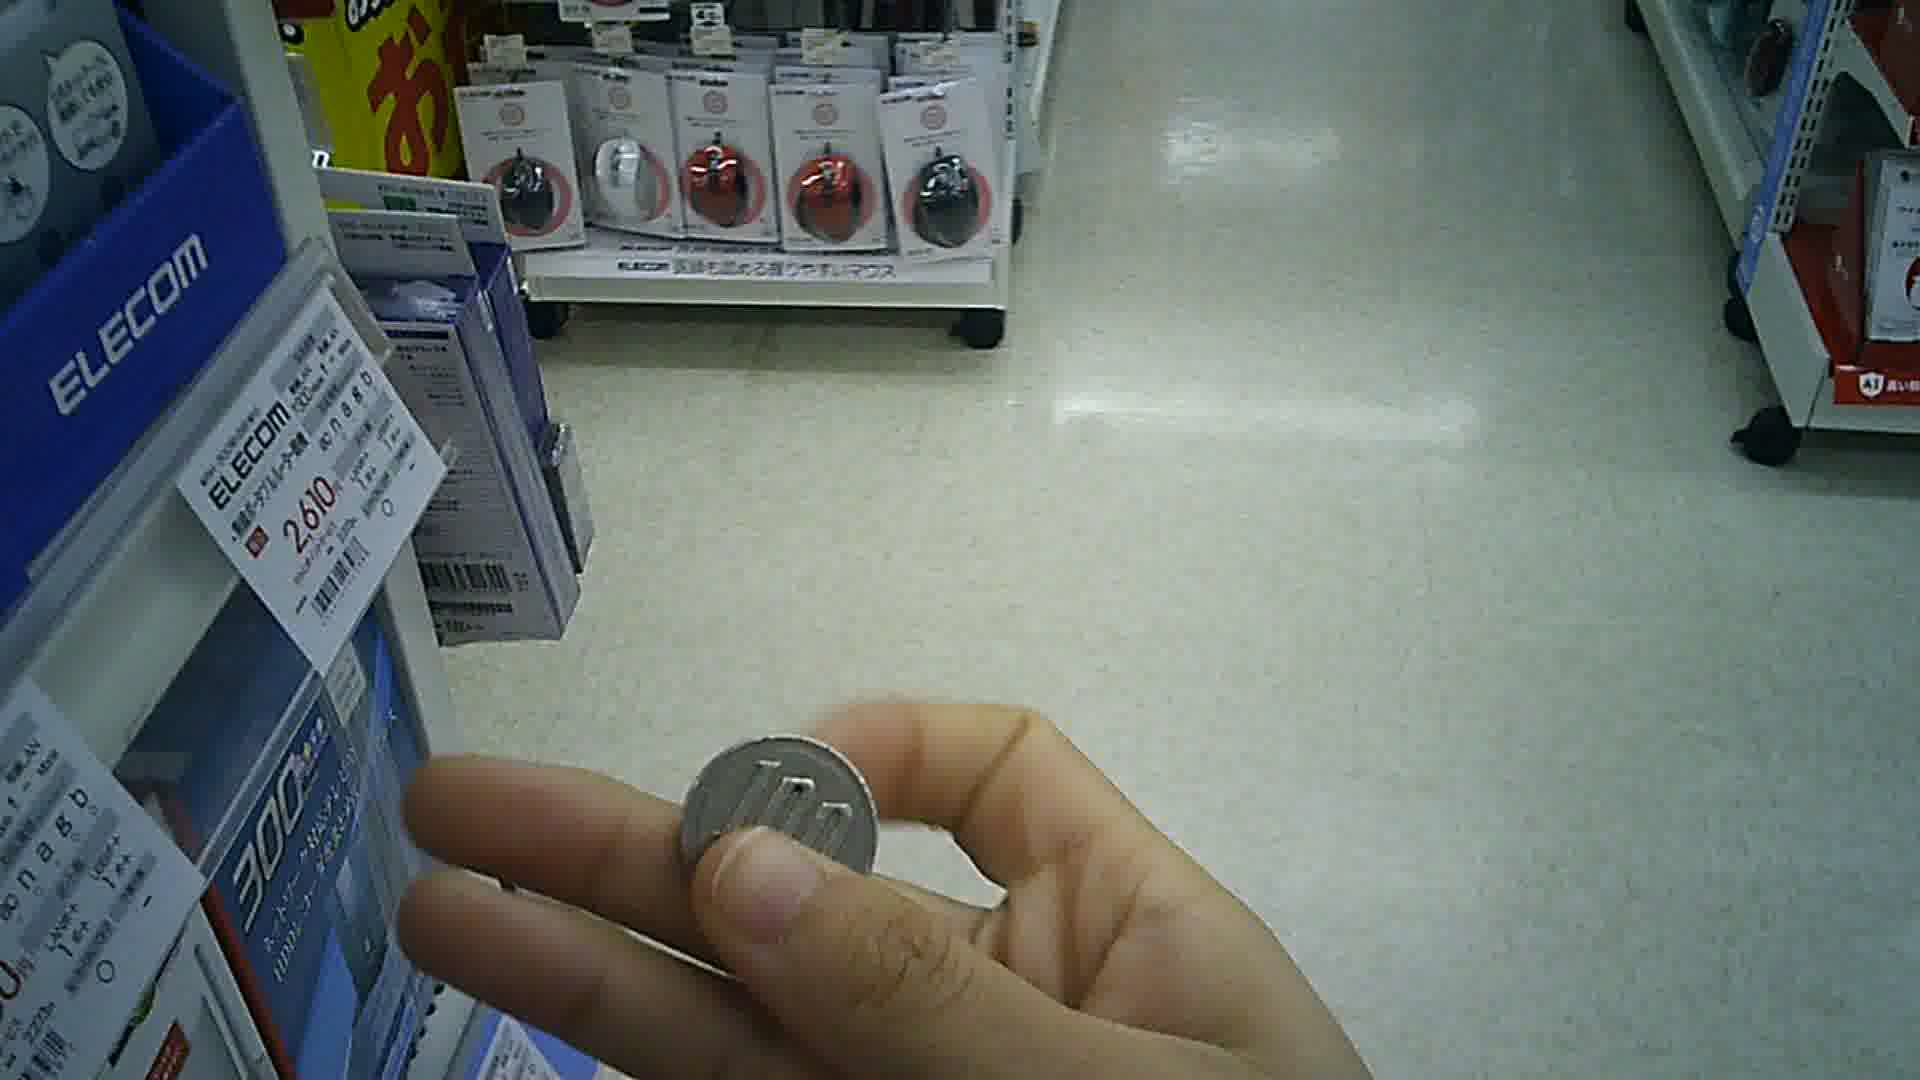100 Yen: (670, 732, 894, 905)
